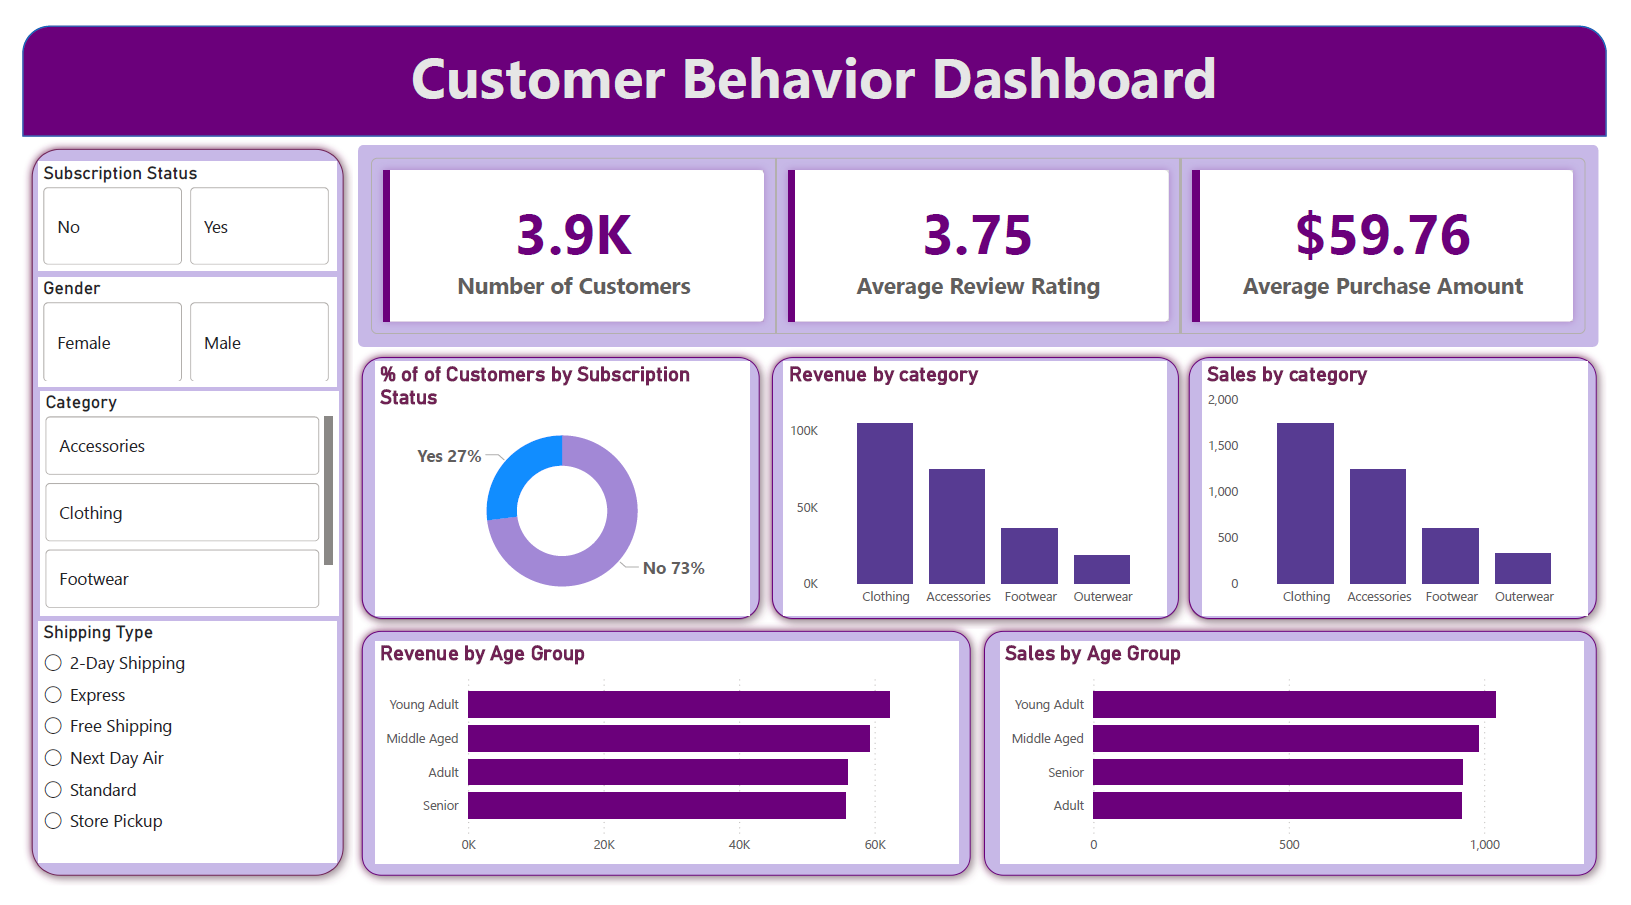

This screenshot's page, from the dashboard's own definition file:
{"tool":"powerbi","page":{"name":"Page 1","canvas":[1500,820],"ordinal":0},"visuals":[{"type":"cardVisual","fields":{"Data":["customer_behavior customers.Number of Customers","customer_behavior customers.Average Review Rating","customer_behavior customers.Average Purchase Amount"]},"box":[313.4,114.2,1186.6,201.9],"z":0},{"type":"shape","box":[0,5.6,1499.9,105.8],"z":1000},{"type":"textbox","box":[0,11.1,1499.9,94.7],"z":2000},{"type":"shape","box":[313.4,310.6,394.1,266],"z":3000},{"type":"donutChart","title":"% of of Customers by Subscription Status","fields":{"Category":["customer_behavior customers.subscription_status"],"Y":["CountNonNull(customer_behavior customers.customer_id)"]},"box":[334.2,324.5,353.7,239.5],"z":4000},{"type":"shape","box":[1096,310.6,403.9,266],"z":5000},{"type":"shape","box":[700.5,310.6,403.9,266],"z":6000},{"type":"clusteredColumnChart","title":"Sales by category","fields":{"Y":["CountNonNull(customer_behavior customers.customer_id)"],"Category":["customer_behavior customers.category"]},"box":[1116.9,324.5,364.9,239.5],"z":7000},{"type":"clusteredColumnChart","title":"Revenue by category","fields":{"Y":["Sum(customer_behavior customers.purchase_amount)"],"Category":["customer_behavior customers.category"]},"box":[721.4,324.5,362.1,239.5],"z":8000},{"type":"shape","box":[0,114.2,313.4,706.1],"z":9000},{"type":"advancedSlicerVisual","fields":{"Values":["customer_behavior customers.subscription_status"]},"box":[15.3,135.1,281.3,103.1],"z":10000},{"type":"advancedSlicerVisual","fields":{"Values":["customer_behavior customers.gender"]},"box":[15.3,243.7,281.3,104.5],"z":11000},{"type":"advancedSlicerVisual","fields":{"Values":["customer_behavior customers.category"]},"box":[16.7,352.3,282.7,211.7],"z":12000},{"type":"listSlicer","fields":{"Values":["customer_behavior customers.shipping_type"]},"box":[15.3,569.6,281.3,228.4],"z":13000},{"type":"shape","box":[313.4,569.6,593.3,250.7],"z":14000},{"type":"clusteredBarChart","title":"Revenue by Age Group","fields":{"Y":["Sum(customer_behavior customers.purchase_amount)"],"Category":["customer_behavior customers.age_group"]},"box":[334.2,589.1,551.5,210.3],"z":15000},{"type":"shape","box":[902.5,569.6,597.5,250.7],"z":15001},{"type":"clusteredBarChart","title":"Sales by Age Group","fields":{"Y":["CountNonNull(customer_behavior customers.customer_id)"],"Category":["customer_behavior customers.age_group"]},"box":[926.1,589.1,551.5,210.3],"z":15002}]}

Visuals, with their boxes in screenshot pixels (x1, y1, x2, y2), scaled from the page's 1500x820 canvas onto the 1631x905 screenshot:
cardVisual - customer_behavior customers.Number of Customers x customer_behavior customers.Average Review Rating: 341/126/1630/349
shape: 0/6/1630/123
textbox: 0/12/1630/117
shape: 341/343/769/636
"% of of Customers by Subscription Status" donutChart: 363/358/748/622
shape: 1192/343/1630/636
shape: 762/343/1201/636
"Sales by category" clusteredColumnChart: 1214/358/1611/622
"Revenue by category" clusteredColumnChart: 784/358/1178/622
shape: 0/126/341/904
advancedSlicerVisual - customer_behavior customers.subscription_status: 17/149/323/263
advancedSlicerVisual - customer_behavior customers.gender: 17/269/323/384
advancedSlicerVisual - customer_behavior customers.category: 18/389/326/622
listSlicer - customer_behavior customers.shipping_type: 17/629/323/881
shape: 341/629/986/904
"Revenue by Age Group" clusteredBarChart: 363/650/963/882
shape: 981/629/1630/904
"Sales by Age Group" clusteredBarChart: 1007/650/1607/882
